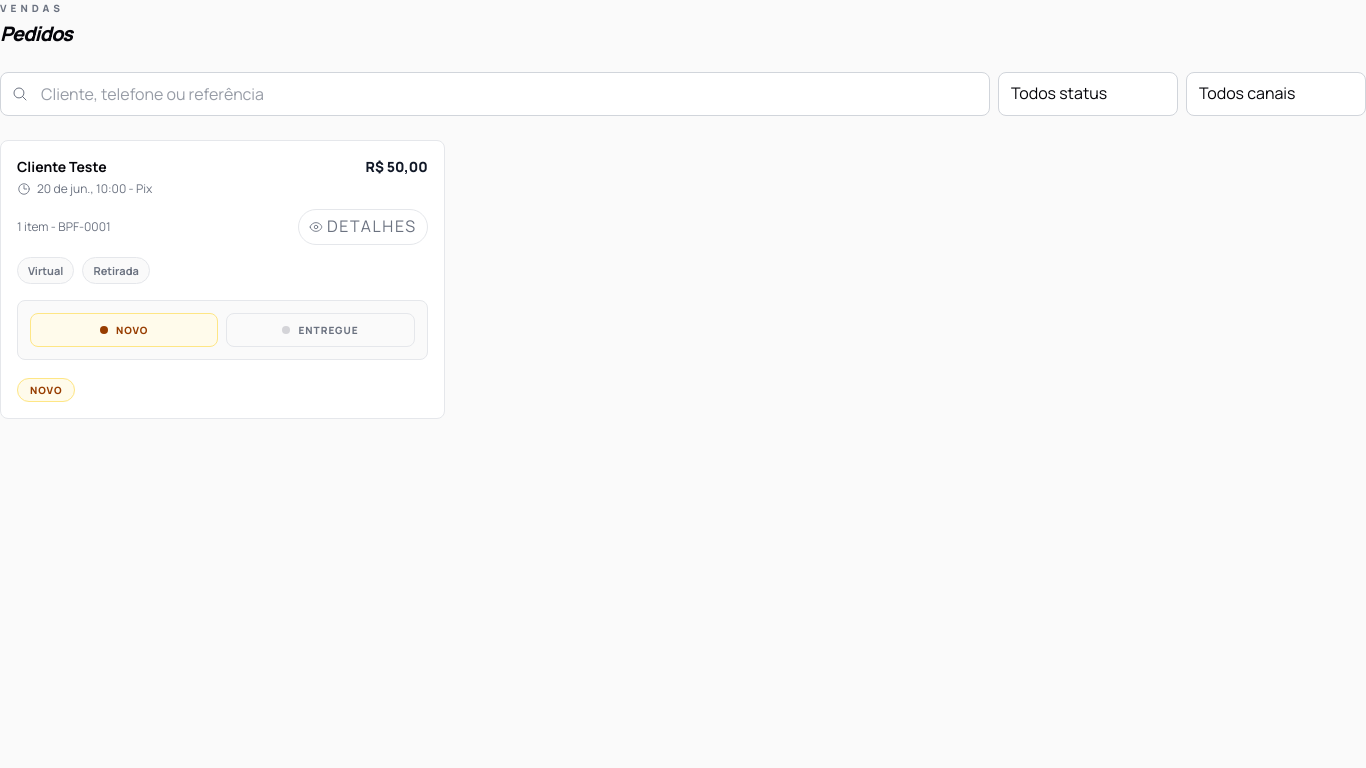
Test: DashboardOrdersView › opens the order detail modal with the fetched order (Etapa 0 of the pedidos/NF/envio evolution)
Click the button with test id "sale-detail-button": point(363, 227) left=298, top=209, right=428, bottom=245
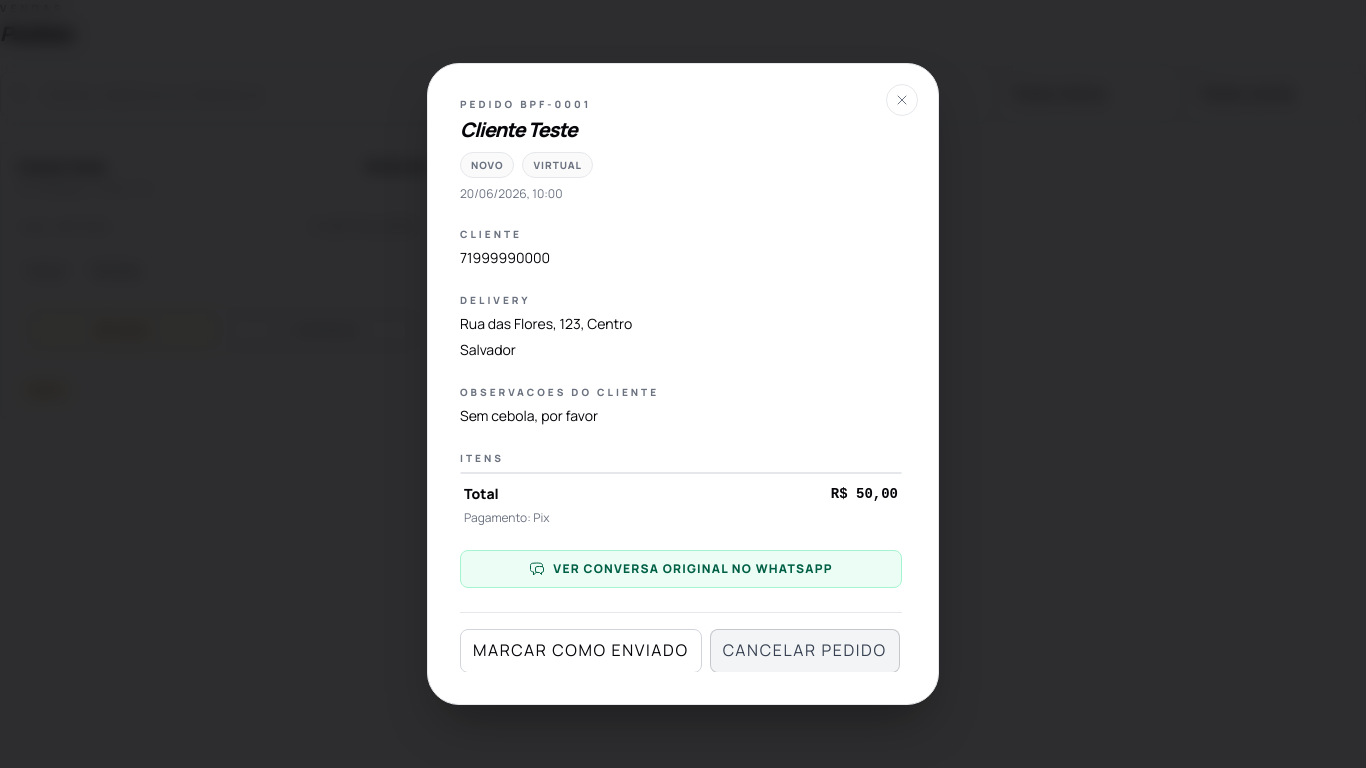
Expected: the text "Rua das Flores, 123" is shown, left=460, top=314, right=581, bottom=333
Expected: the text "Sem cebola, por favor" is shown, left=460, top=406, right=598, bottom=425
Expected: the link to "https://wa.me/5571999990000" is shown, left=460, top=550, right=902, bottom=588
